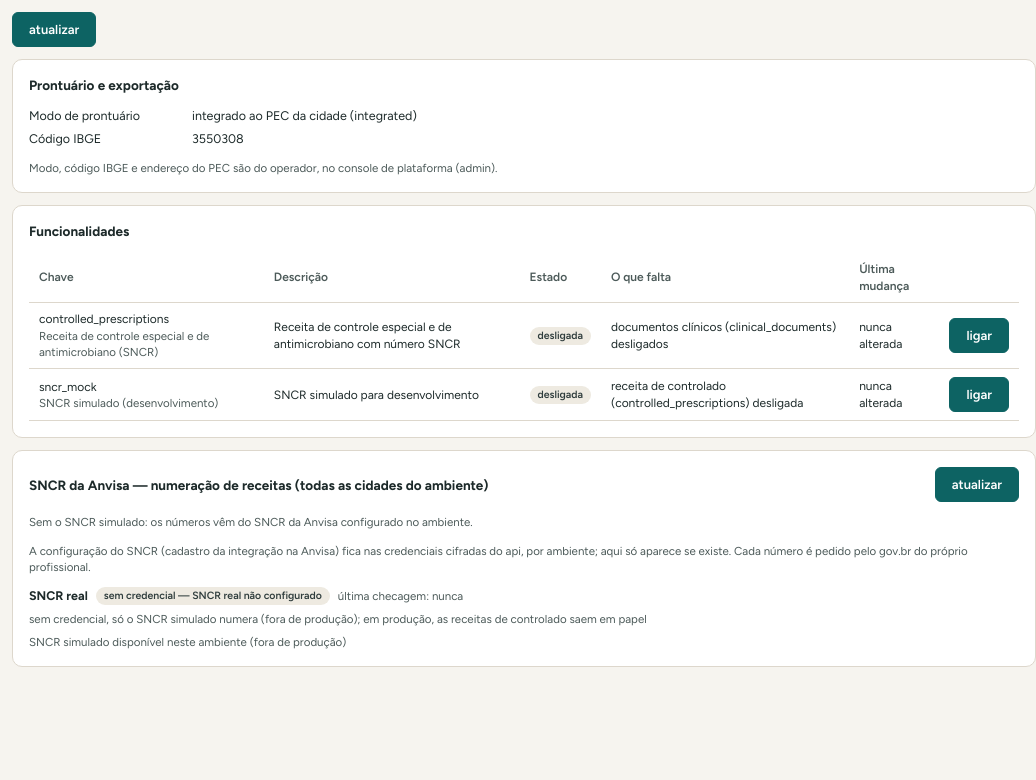
it: FeaturesTab — receita de controlado e SNCR (módulo 19d) › ligar sncr_mock por dois cliques: após o refetch a aba avisa
Expected: the text "sncr_mock" is shown, [39, 380, 97, 394]
Click the button "ligar" in the row of "sncr_mock".
click(979, 395)  # box [949, 378, 1009, 412]
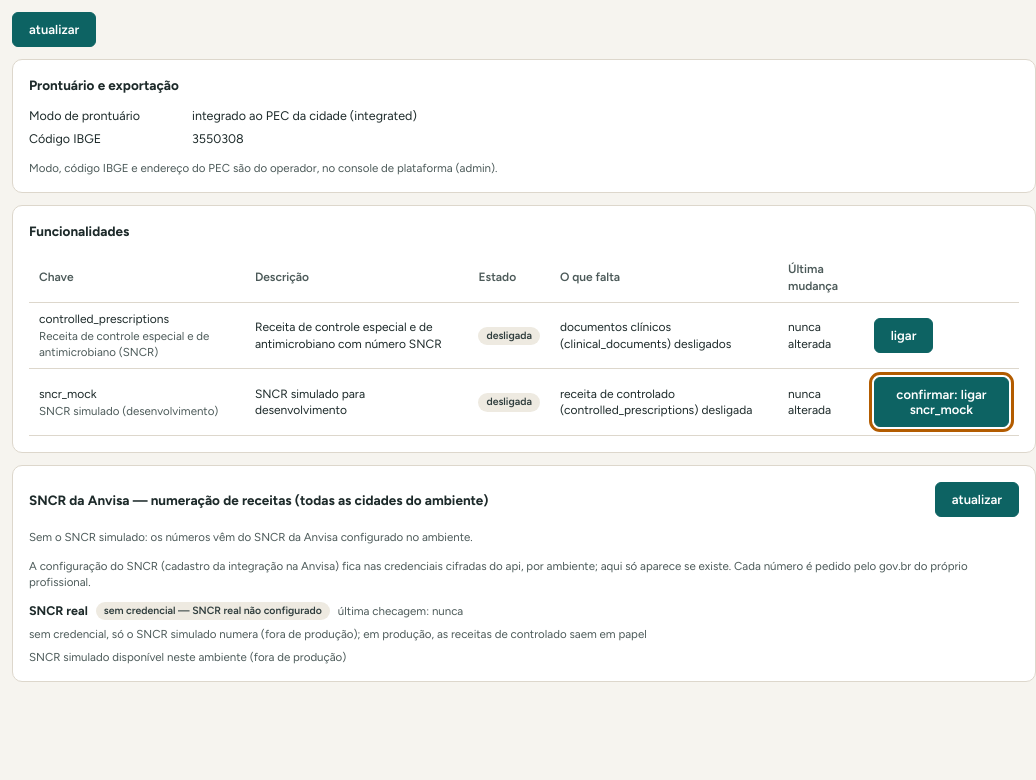
Click the button "confirmar: ligar sncr_mock".
click(941, 402)  # box [874, 378, 1009, 428]
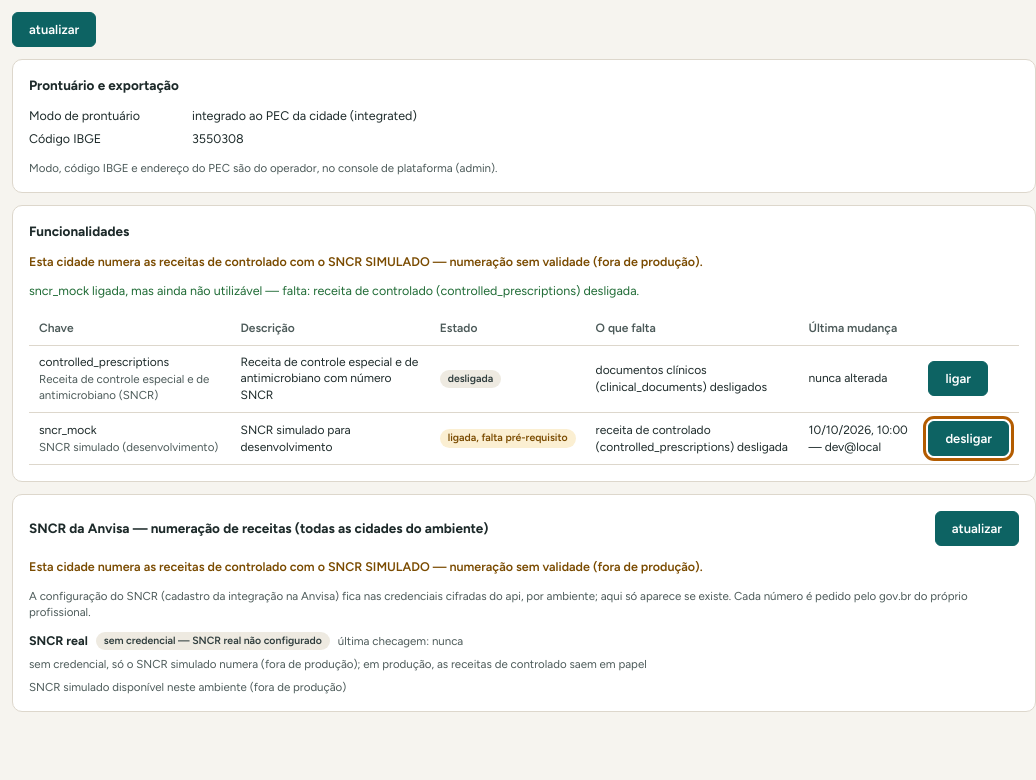
Result: the text named "modo do SNCR" shows "Esta cidade numera as receitas de controlado com o SNCR SIMULADO — numeração sem validade (fora de produção)." at [29, 254, 702, 269]
